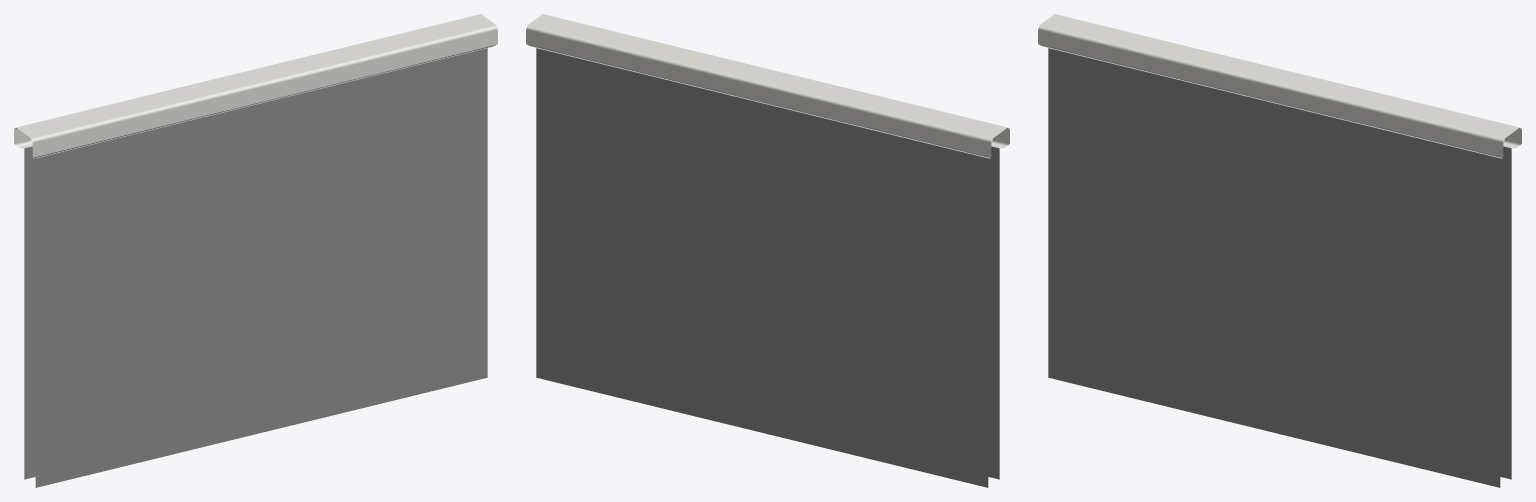
The model's file is WallPiece.fbx.
3 renders of one model, left to right at view 1: azimuth 30°, elevation 25°; view 2: azimuth 150°, elevation 25°; view 3: azimuth 330°, elevation 25°, orthographic.
Parts seen in each view (by area): view 1: WallPiece; view 2: WallPiece; view 3: WallPiece.
Boxes of the visible parts, box(x1,y1,x2,y2) form: WallPiece: box(14, 14, 497, 487); WallPiece: box(526, 14, 1009, 487); WallPiece: box(1038, 14, 1521, 487).
Bounding box in the file's own units: 706 × 511 × 48.9.
